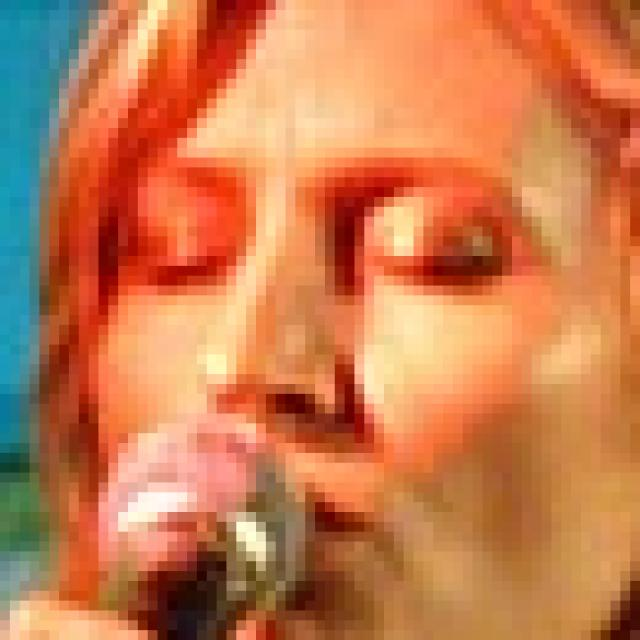Eyeclosed: (361, 230, 504, 306), (128, 240, 228, 294)
